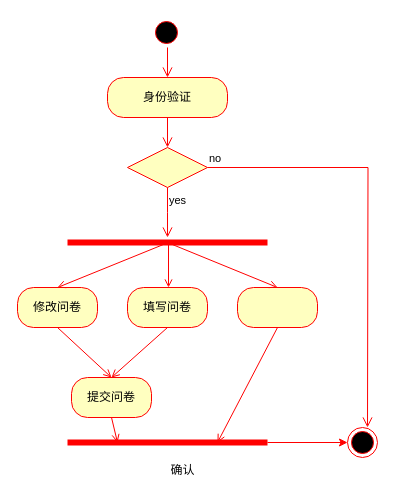
The diagram is 396 pixels wide and 503 high, and some of its shapes have lost their labels. The box of each missing label's shape, as (x1, y1, x2, y2) in pixels:
撤回问卷: (236, 286, 318, 328)
通过: (126, 146, 208, 188)
